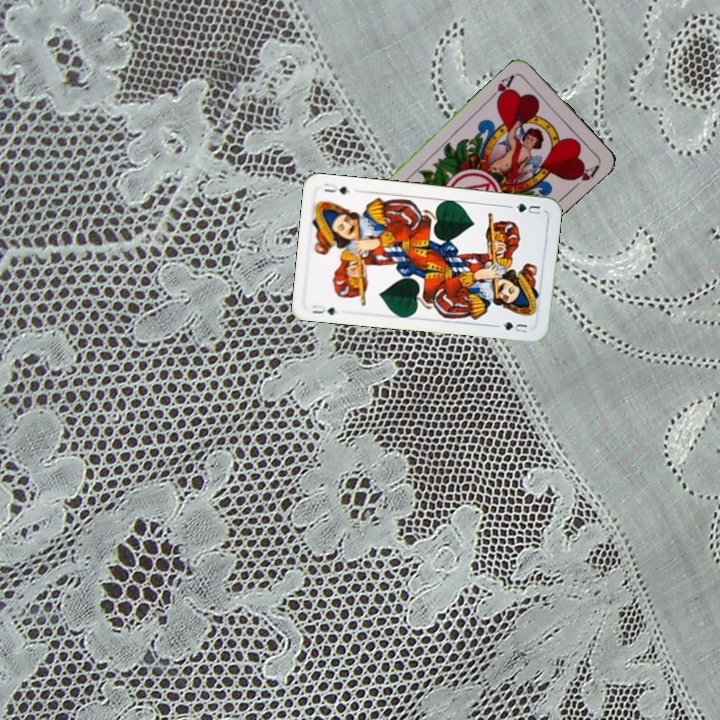GU: (512, 199, 543, 217), (307, 301, 338, 318)
HA: (486, 70, 520, 105)
